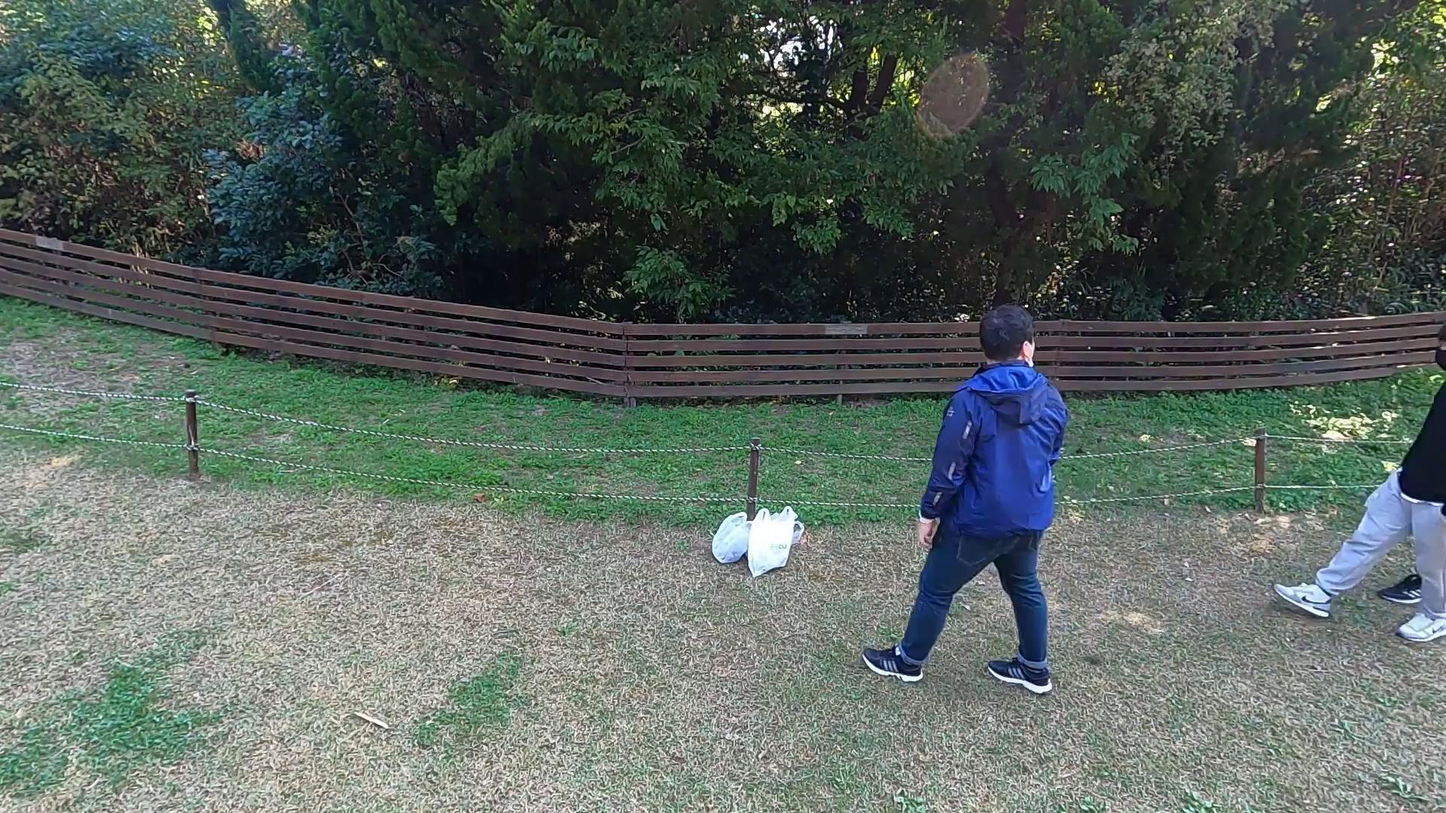person: (865, 301, 1068, 703), (1270, 320, 1446, 659)
trash: (743, 503, 795, 574), (710, 505, 750, 564)
